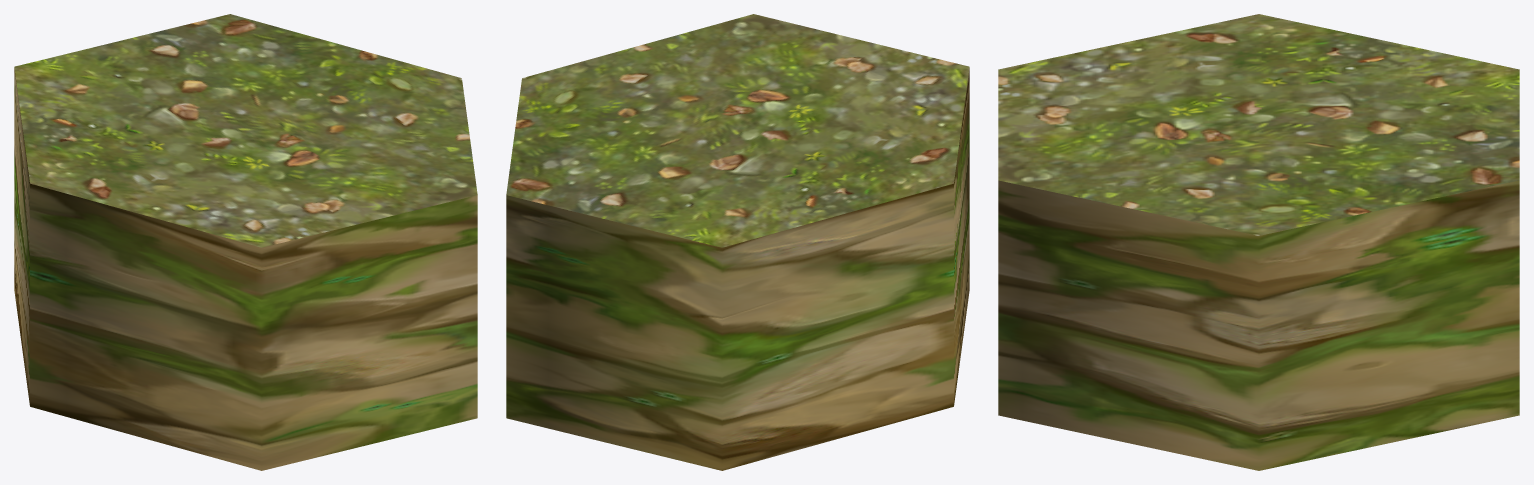
File: 普通格子2.FBX
3 renders of one model, left to right at view 1: azimuth 30°, elevation 25°; view 2: azimuth 150°, elevation 25°; view 3: azimuth 270°, elevation 25°, orthographic. The views are drawn at different scales.
Parts seen in each view (by area): view 1: 对象002, Cylinder001; view 2: 对象002, Cylinder001; view 3: 对象002, Cylinder001.
Boxes of the visible parts, bbox=[...] form: 对象002: bbox=[14, 68, 477, 470]; Cylinder001: bbox=[14, 14, 477, 247]; 对象002: bbox=[506, 68, 969, 470]; Cylinder001: bbox=[506, 14, 969, 247]; 对象002: bbox=[998, 180, 1519, 470]; Cylinder001: bbox=[998, 14, 1519, 235].
Bounding box in the file's own units: 121 × 59.57 × 120.
